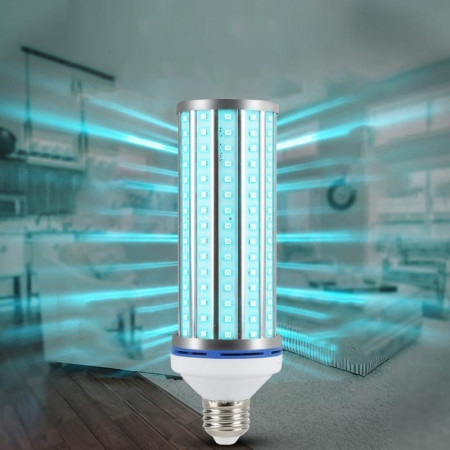bulb: (163, 86, 278, 441)
